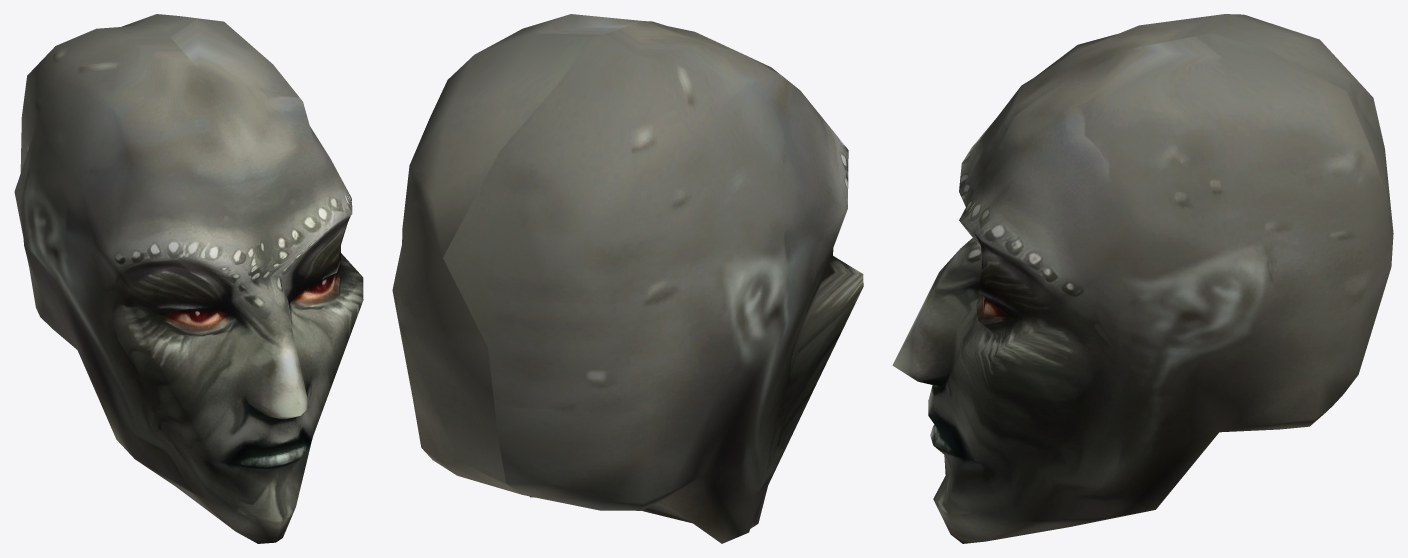
Rendered from b_n_dark elf_m_head_04.glb.
3 renders of one model, left to right at view 1: azimuth 30°, elevation 25°; view 2: azimuth 150°, elevation 25°; view 3: azimuth 270°, elevation 25°, orthographic. The views are drawn at different scales.
Parts seen in each view (by area): view 1: Tri B_N_Dark Elf_M_Head_04; view 2: Tri B_N_Dark Elf_M_Head_04; view 3: Tri B_N_Dark Elf_M_Head_04.
Part boxes in pixels (<box>): Tri B_N_Dark Elf_M_Head_04: <box>14,14,363,543</box>; Tri B_N_Dark Elf_M_Head_04: <box>392,14,863,543</box>; Tri B_N_Dark Elf_M_Head_04: <box>892,14,1393,543</box>.
Bounding box in the file's own units: 0.093 × 0.1577 × 0.1421.
Materials: 1 (1 with a texture image).
